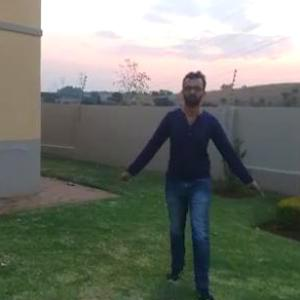land: (123, 69, 265, 288)
